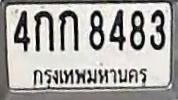3: (148, 9, 164, 49)
4: (109, 8, 125, 50), (13, 10, 29, 52)
8: (88, 9, 104, 50), (129, 9, 144, 49)
A01: (58, 9, 78, 51), (33, 10, 53, 51)
BKK: (29, 64, 152, 89)
